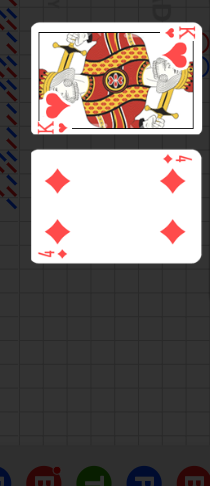4D: (38, 248, 69, 260)
KH: (163, 25, 197, 41)
